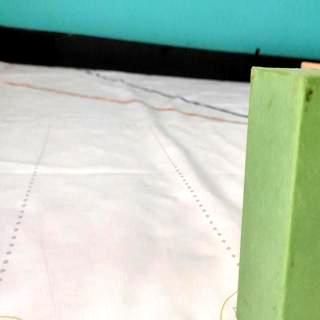greenbox: (235, 65, 320, 320)
